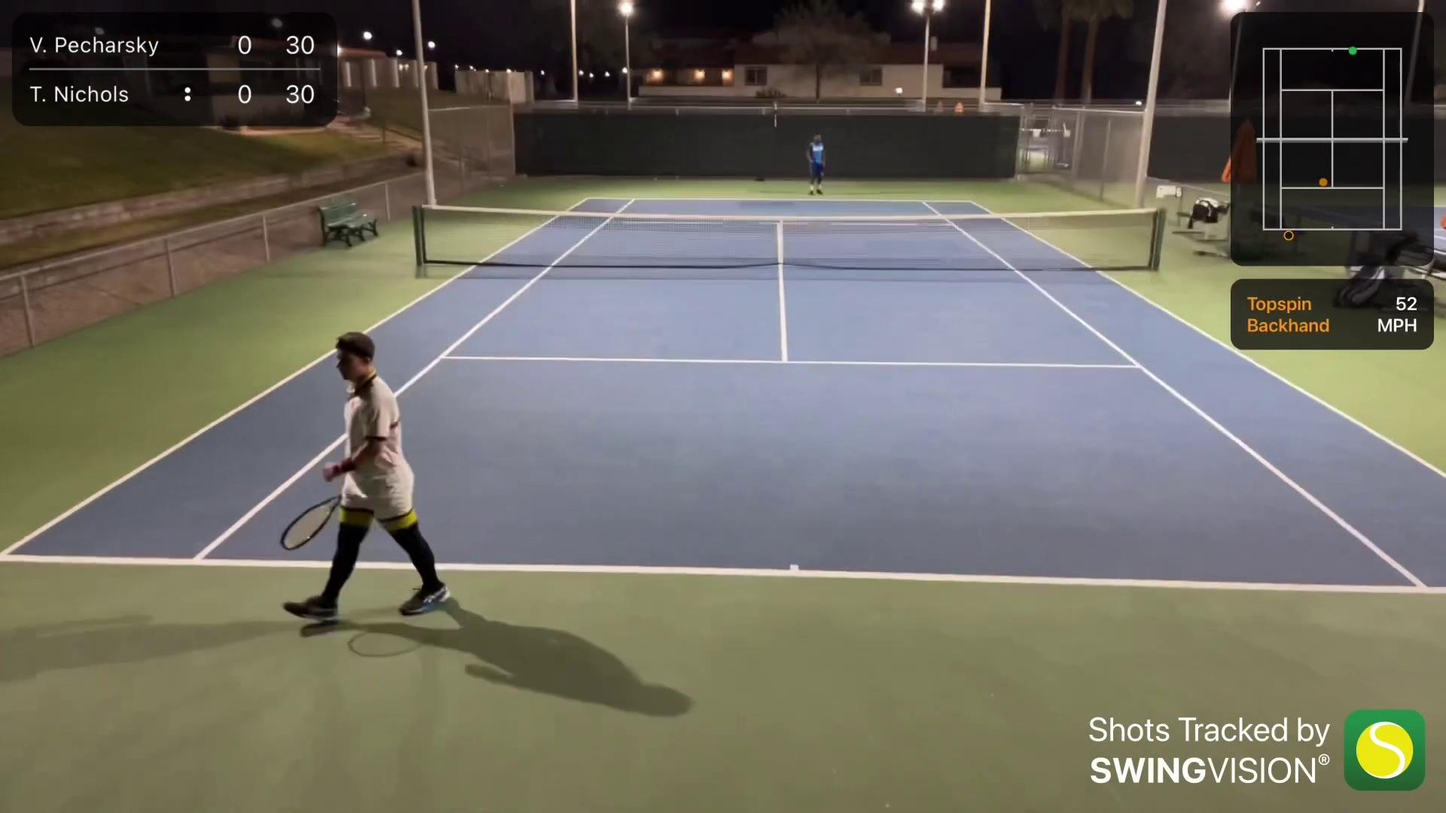ball: (898, 87, 904, 92), (499, 184, 503, 187)
